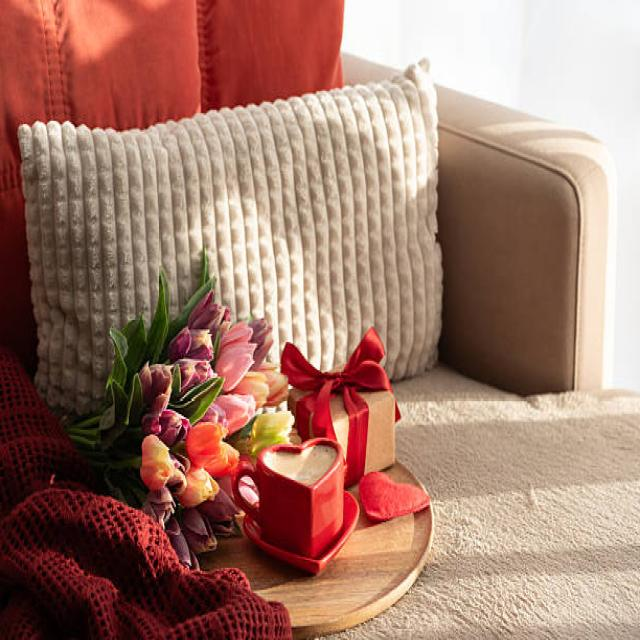Red_cup: (233, 438, 344, 558)
